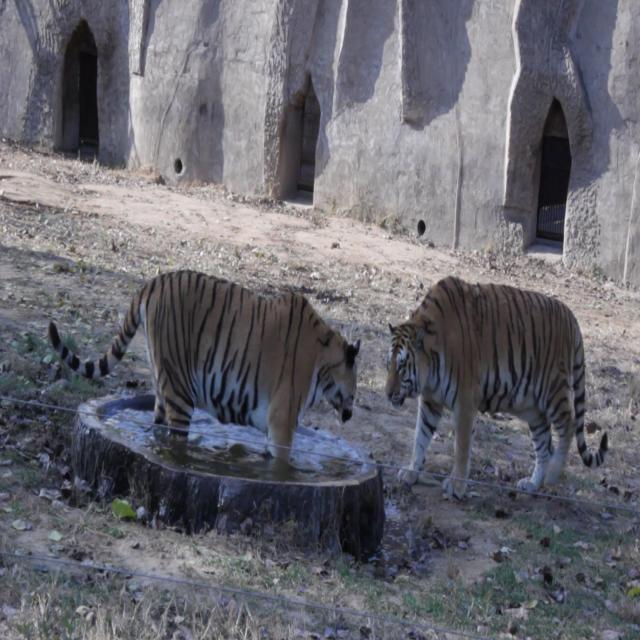Tiger: (378, 270, 613, 505)
